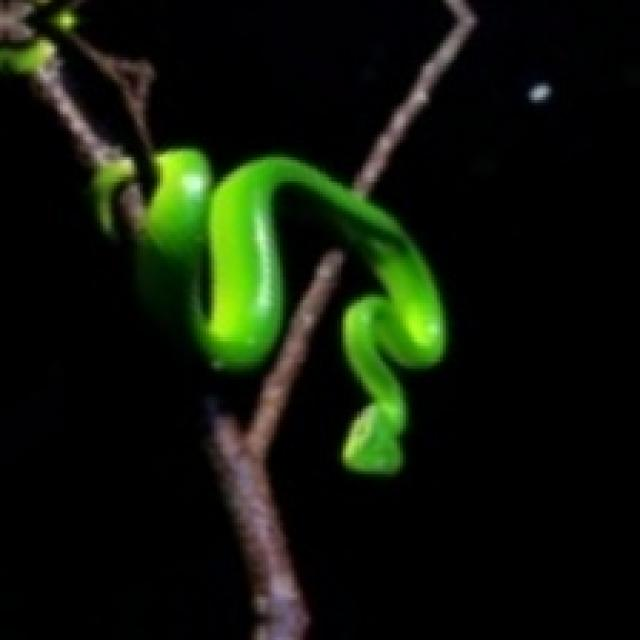north ph temple pitviper: (0, 0, 474, 471)
